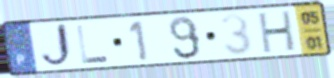1: (127, 19, 150, 63)
3: (220, 11, 253, 59)
9: (167, 15, 203, 62)
H: (257, 8, 298, 56)
J: (38, 22, 75, 70)
L: (74, 24, 112, 65)
